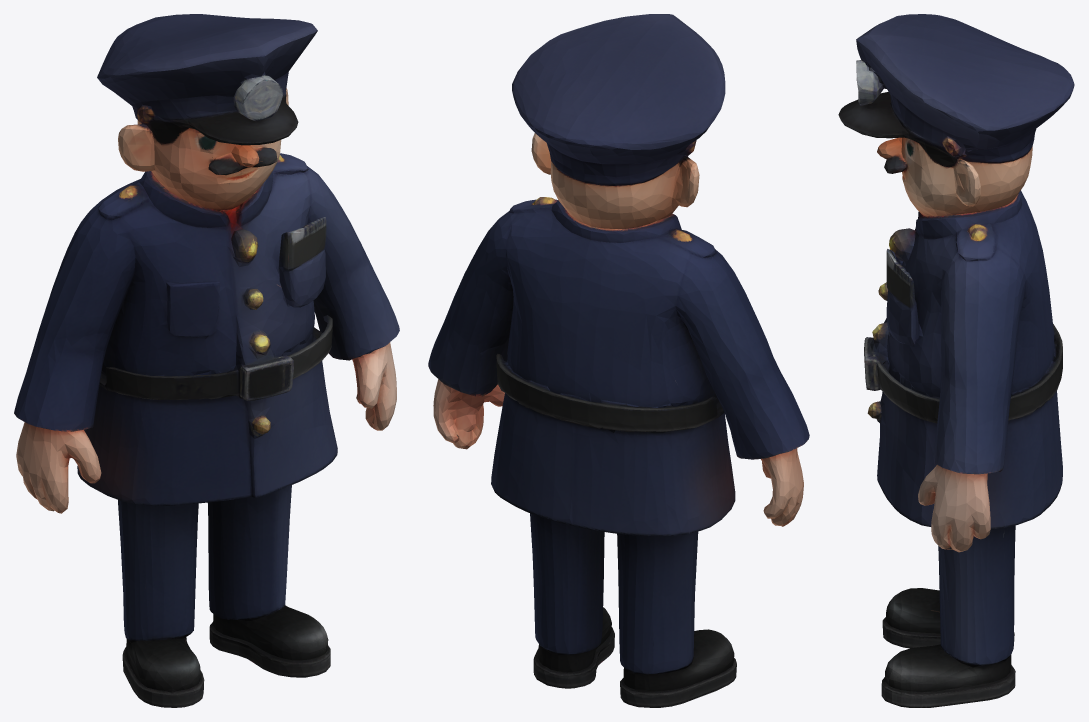
File: hale.glb
3 views of the same model, side by side, from view 1: azimuth 30°, elevation 25°; view 2: azimuth 150°, elevation 25°; view 3: azimuth 270°, elevation 25° (orthographic). The views are drawn at different scales.
Parts seen in each view (by area): view 1: geometry_0; view 2: geometry_0; view 3: geometry_0.
Boxes of the visible parts, x1,y1,x2,y2 form: geometry_0: [14, 14, 399, 707]; geometry_0: [428, 14, 809, 707]; geometry_0: [838, 14, 1074, 707].
Size of the model in its own units: 0.6122 by 0.9994 by 0.3392.
1 material, 1 textured.
